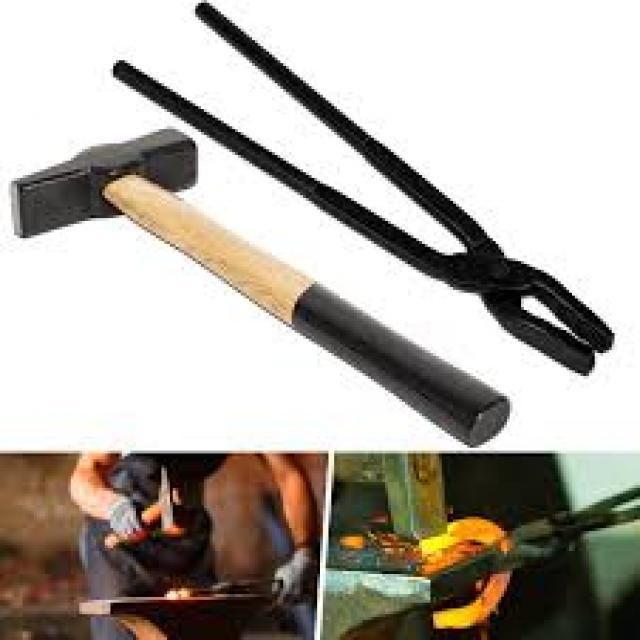hammer: (6, 124, 524, 450), (96, 462, 204, 563)
